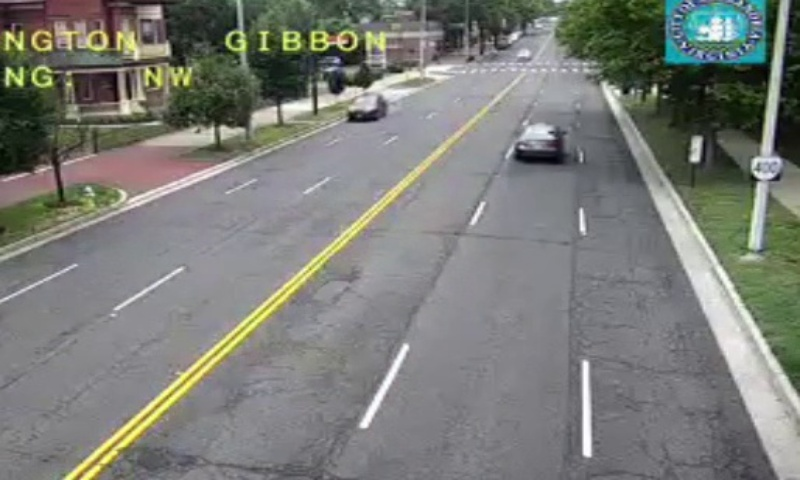car: (516, 124, 560, 157)
